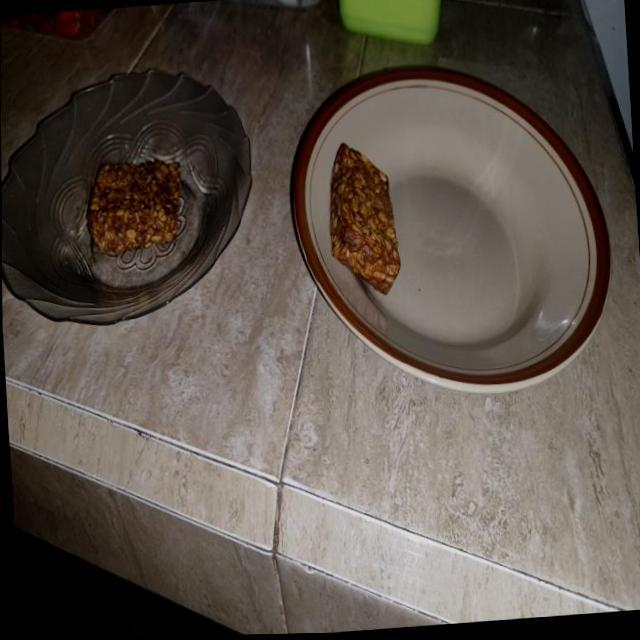tempe_goreng: (330, 143, 400, 294), (88, 162, 182, 255)
